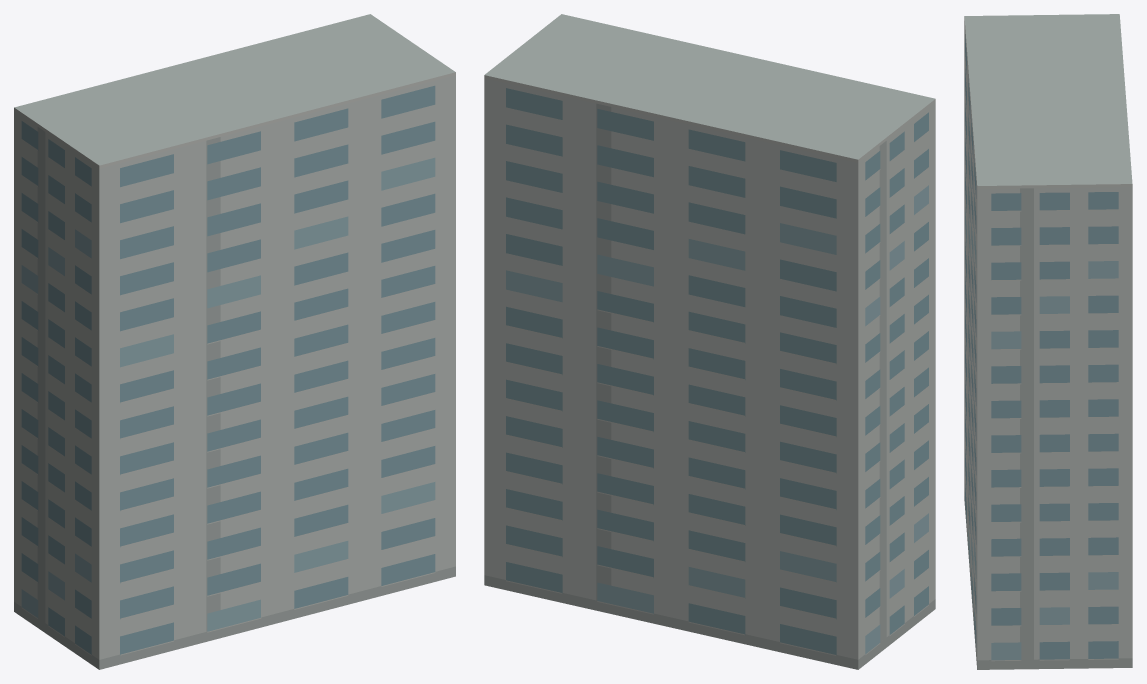
The model's file is residential-a7610b35-4f64-45a6-ac8d-894757e5f065.glb.
3 views of the same model, side by side, from view 1: azimuth 30°, elevation 25°; view 2: azimuth 150°, elevation 25°; view 3: azimuth 270°, elevation 25° (orthographic). The views are drawn at different scales.
Parts seen in each view (by area): view 1: residential-a7610b35-4f64-45a6-ac8d-894757e5f065.tmp; view 2: residential-a7610b35-4f64-45a6-ac8d-894757e5f065.tmp; view 3: residential-a7610b35-4f64-45a6-ac8d-894757e5f065.tmp.
Part boxes in pixels (x1=…): residential-a7610b35-4f64-45a6-ac8d-894757e5f065.tmp: x1=14, y1=14, x2=455, y2=669; residential-a7610b35-4f64-45a6-ac8d-894757e5f065.tmp: x1=484, y1=14, x2=935, y2=669; residential-a7610b35-4f64-45a6-ac8d-894757e5f065.tmp: x1=964, y1=14, x2=1132, y2=669.
Size of the model in its own units: 30.52 by 40 by 12.6.
